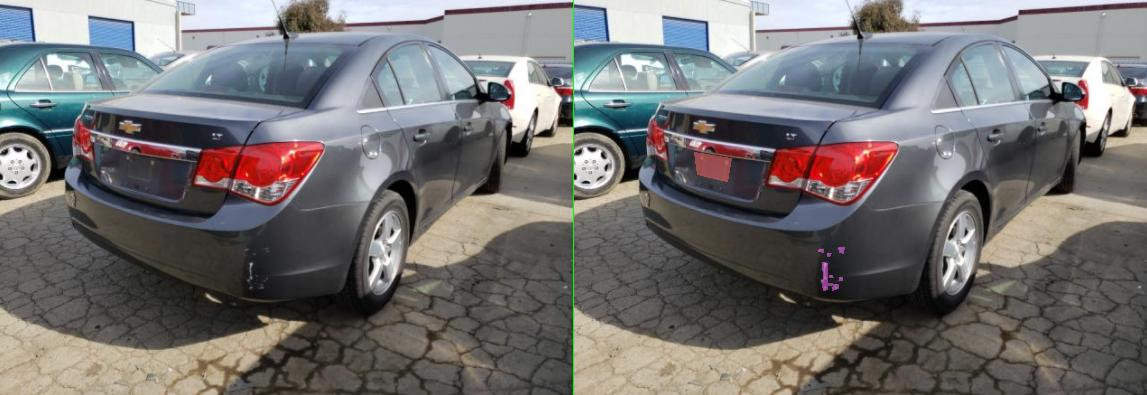Dent: (496, 262, 506, 279), (494, 280, 506, 290), (516, 284, 528, 290), (528, 247, 540, 253), (488, 249, 498, 252), (506, 253, 514, 256), (506, 283, 516, 285), (530, 277, 536, 280), (510, 275, 518, 277)
Missing part: (240, 152, 314, 181)
